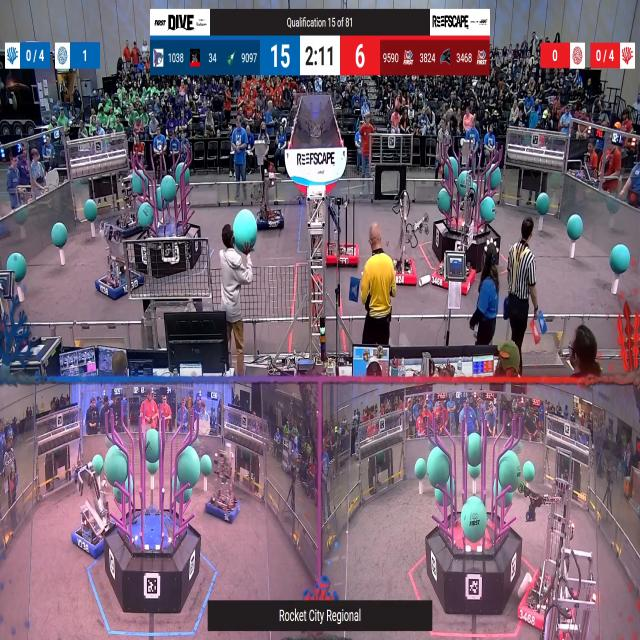scoreboard: (150, 36, 489, 74)
